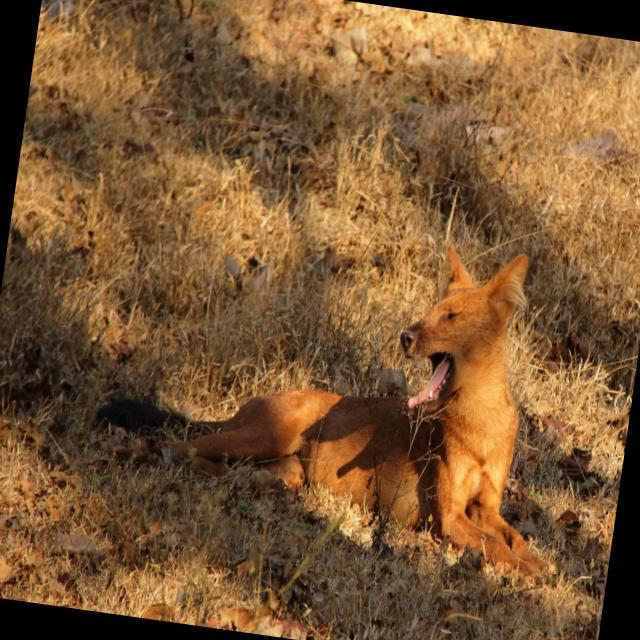fox: (126, 147, 640, 588)
